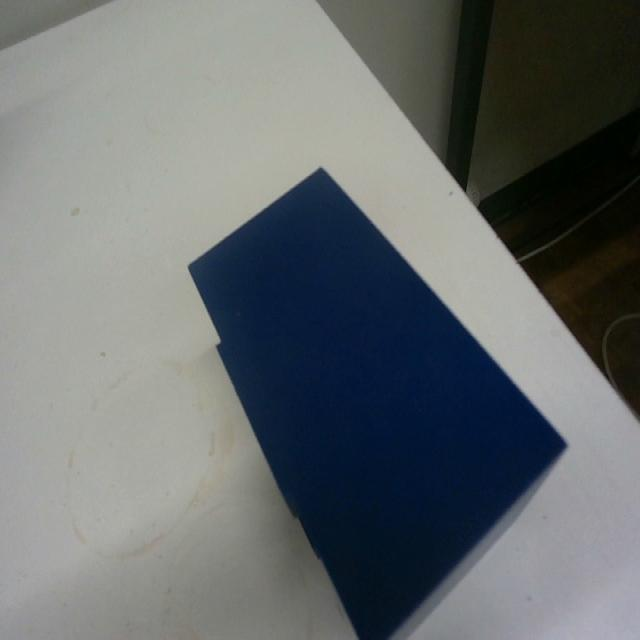Blue Cuboid: (185, 163, 569, 637)
